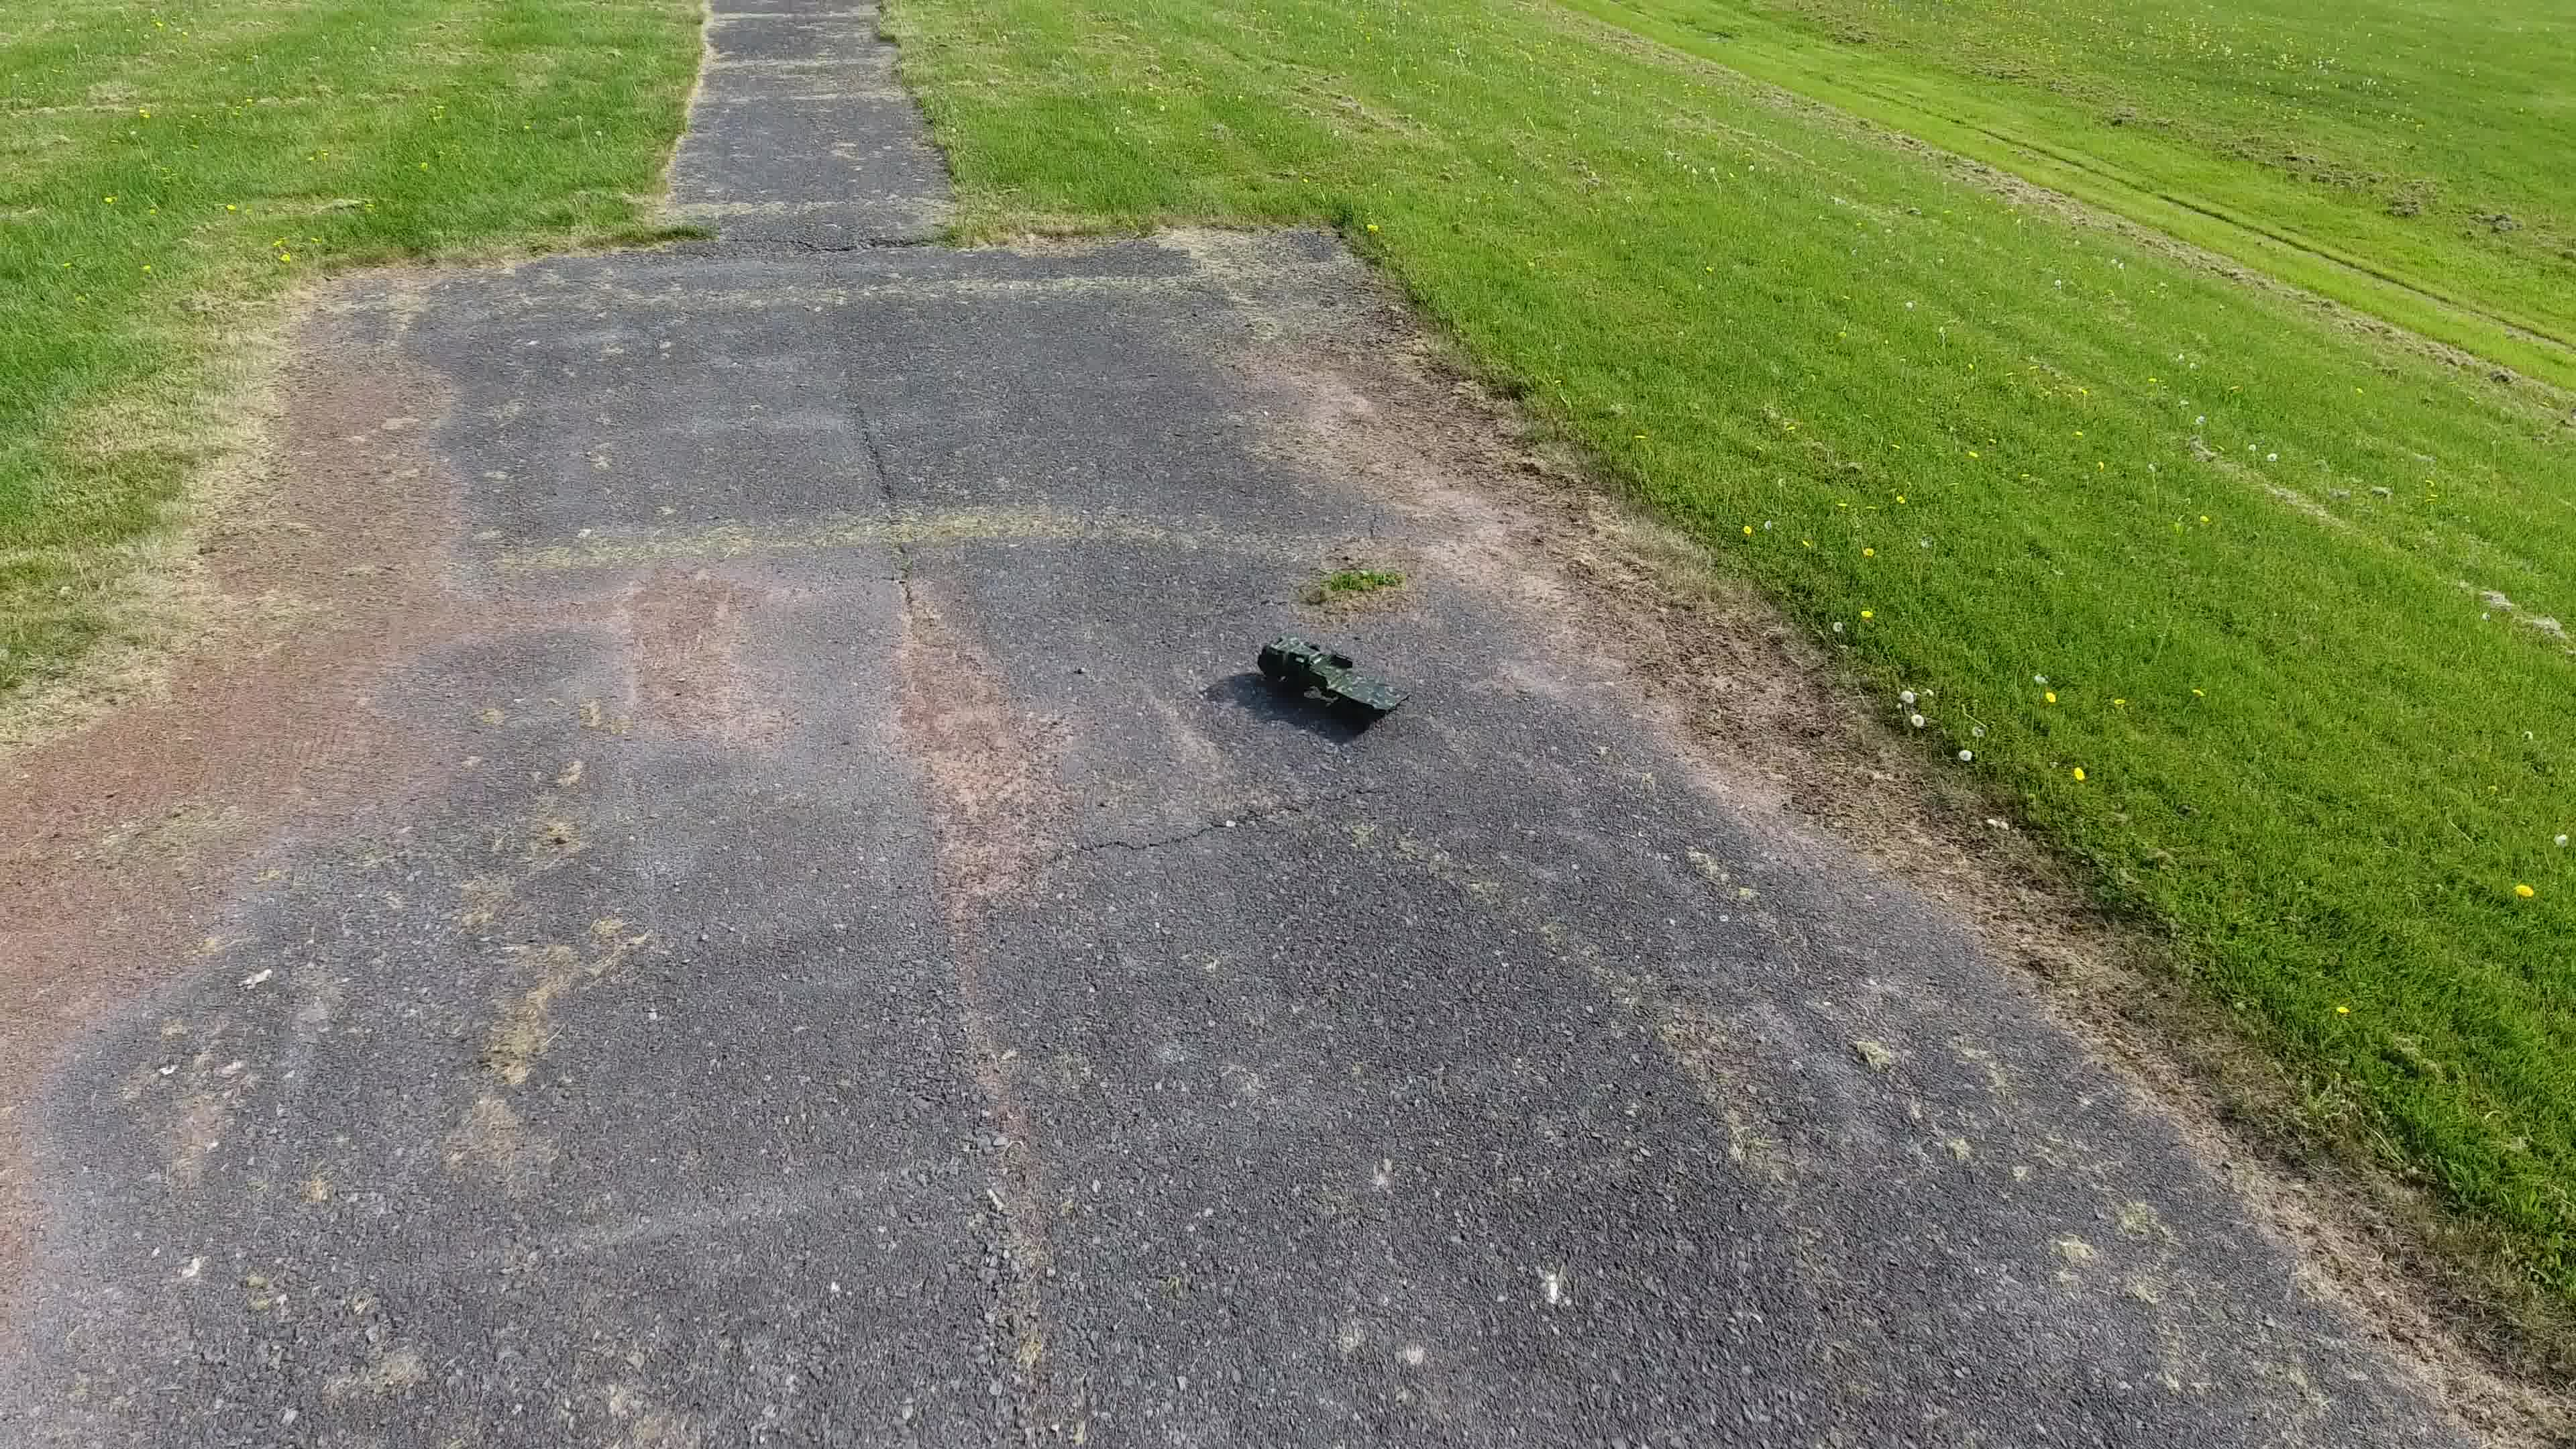transporter9: (1253, 628, 1415, 725)
